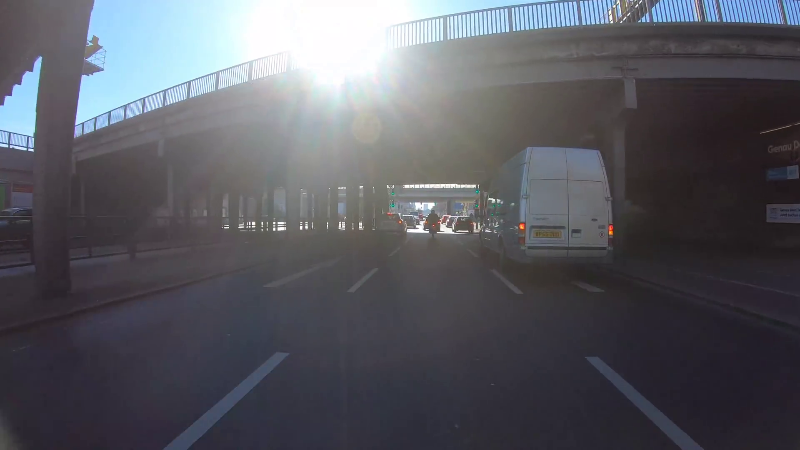Plate: (533, 229, 561, 238)
